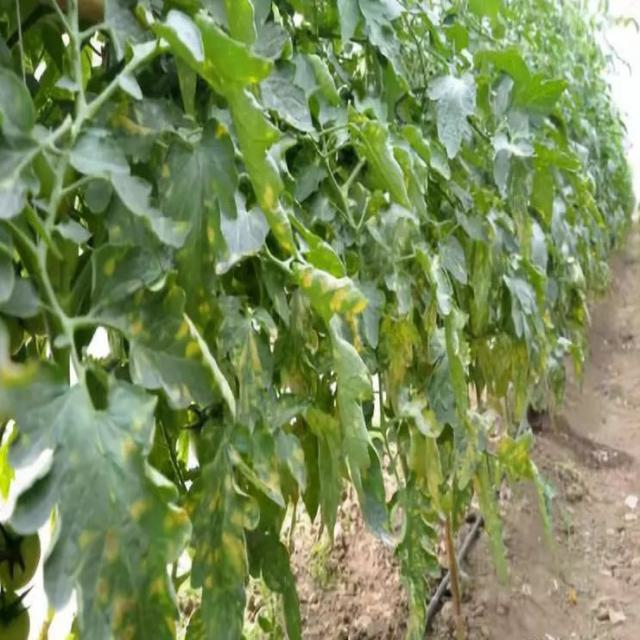Leaf_Mold: (72, 423, 192, 640), (191, 445, 259, 640), (396, 489, 438, 640), (224, 310, 278, 417), (301, 262, 366, 326), (172, 315, 221, 385), (258, 181, 298, 258), (262, 438, 307, 503), (382, 314, 415, 394), (498, 434, 536, 481), (281, 364, 316, 400), (198, 215, 223, 258), (125, 311, 152, 340), (209, 118, 231, 143), (155, 159, 176, 183)
